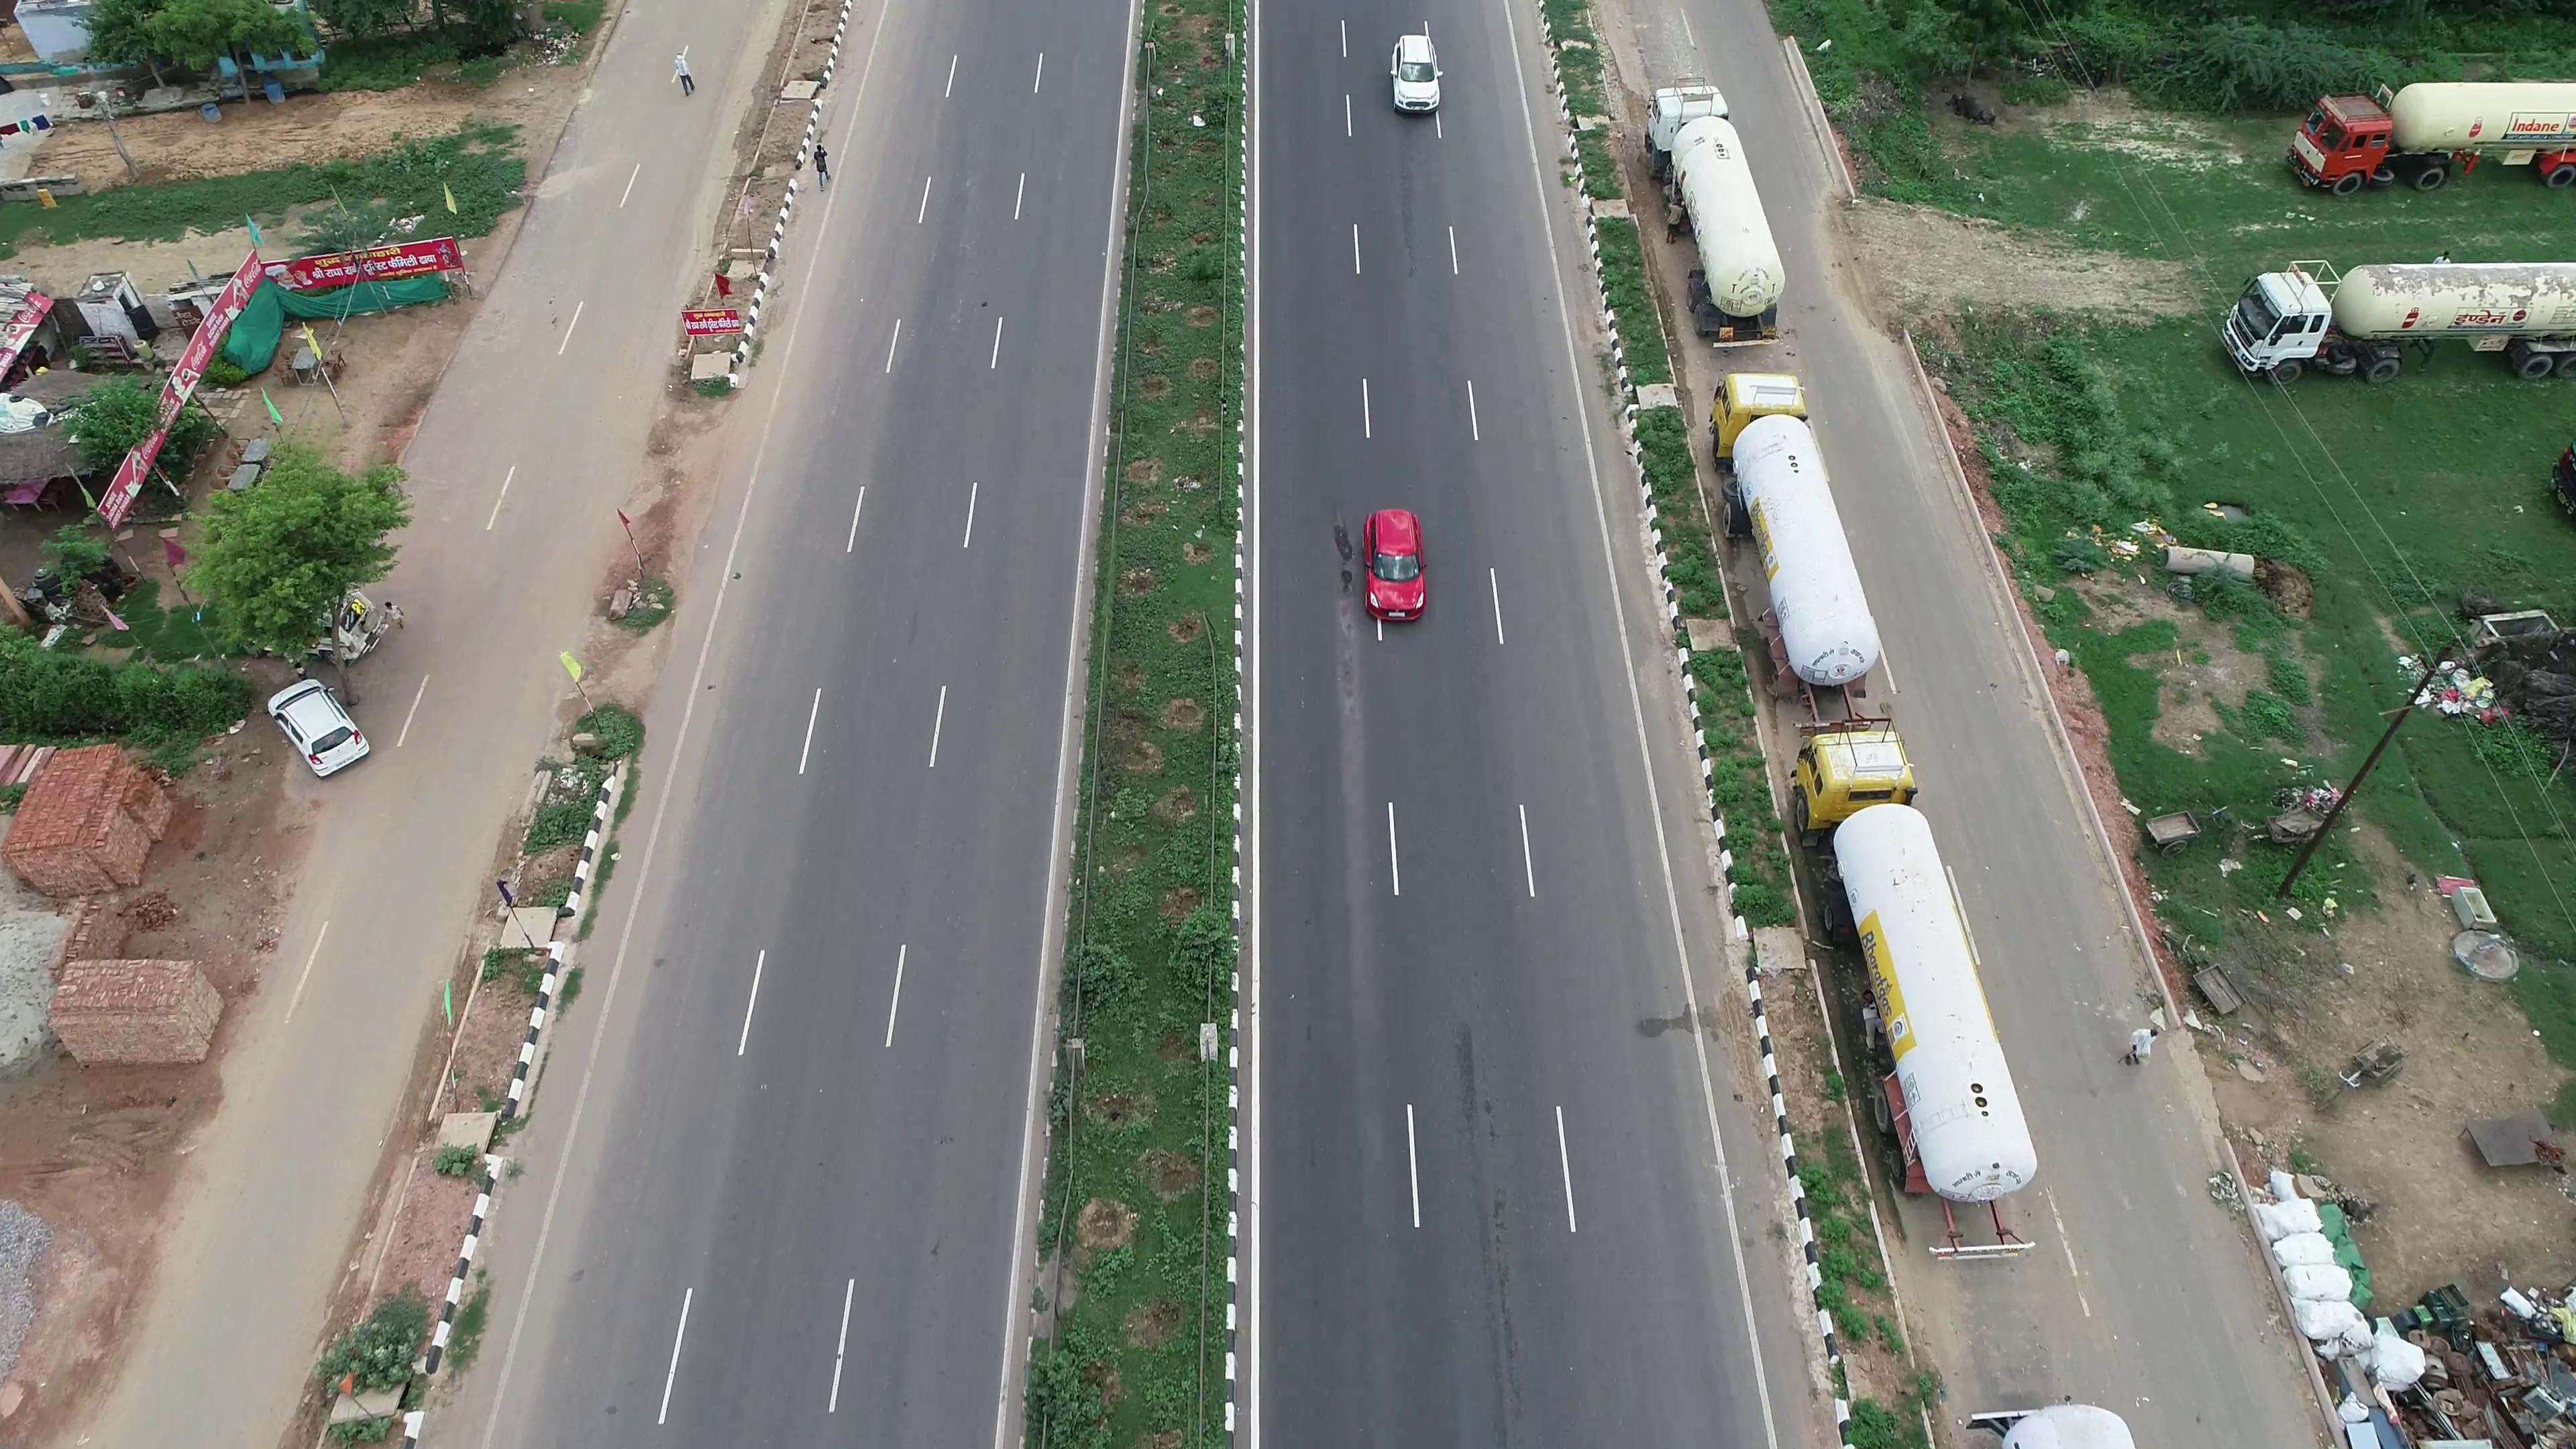Potholes: (1323, 518, 1366, 690)
Ravelling: (1453, 1019, 1514, 1318)
